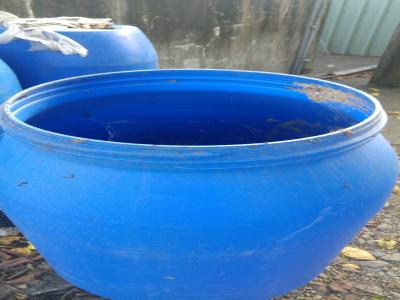bucket: (1, 65, 400, 299)
